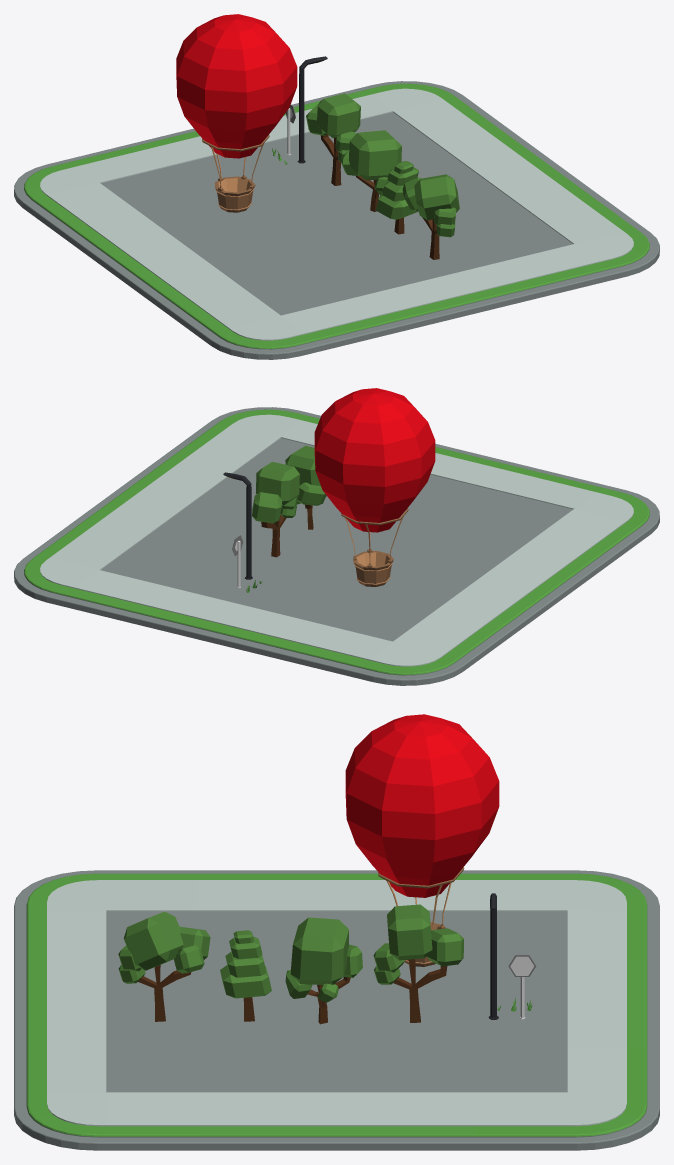
Rendered from Props.fbx.
3 renders of one model, top to bottom at view 1: azimuth 30°, elevation 25°; view 2: azimuth 150°, elevation 25°; view 3: azimuth 270°, elevation 25°, orthographic. The views are drawn at different scales.
Visible parts, largest first — view 1: Extra props, air balloon, tree2, tree3, tree4, tree, light post; view 2: Extra props, air balloon, tree4, tree3, light post; view 3: Extra props, air balloon, tree4, tree2, tree3, tree, light post, street sign.
Boxes of the visible parts, x1,y1,x2,y2 form: Extra props: (14, 81, 659, 359); air balloon: (176, 14, 297, 212); tree2: (402, 174, 459, 259); tree3: (341, 130, 401, 211); tree4: (306, 93, 360, 185); tree: (376, 161, 418, 234); light post: (297, 56, 327, 163); Extra props: (14, 407, 659, 685); air balloon: (314, 388, 435, 586); tree4: (252, 461, 299, 557); tree3: (285, 445, 326, 529); light post: (223, 472, 252, 579); Extra props: (14, 870, 659, 1150); air balloon: (345, 714, 499, 966); tree4: (373, 904, 463, 1022); tree2: (118, 911, 210, 1021); tree3: (285, 917, 362, 1024); tree: (220, 930, 271, 1021); light post: (488, 893, 498, 1019); street sign: (508, 955, 536, 1019).
Bounding box in the file's own units: 1377 × 588 × 1377.
